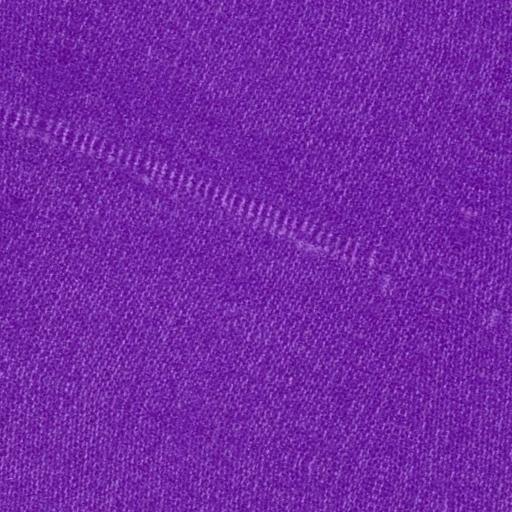slub: (1, 88, 388, 280)
